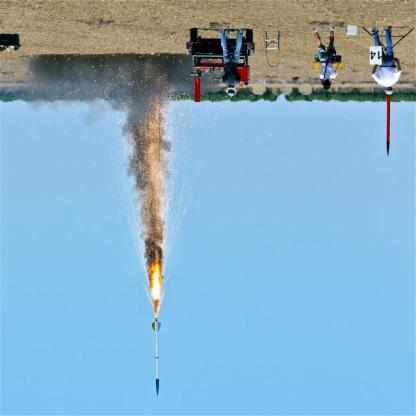MIL_TBM: (153, 321, 161, 396), (386, 93, 391, 156)
